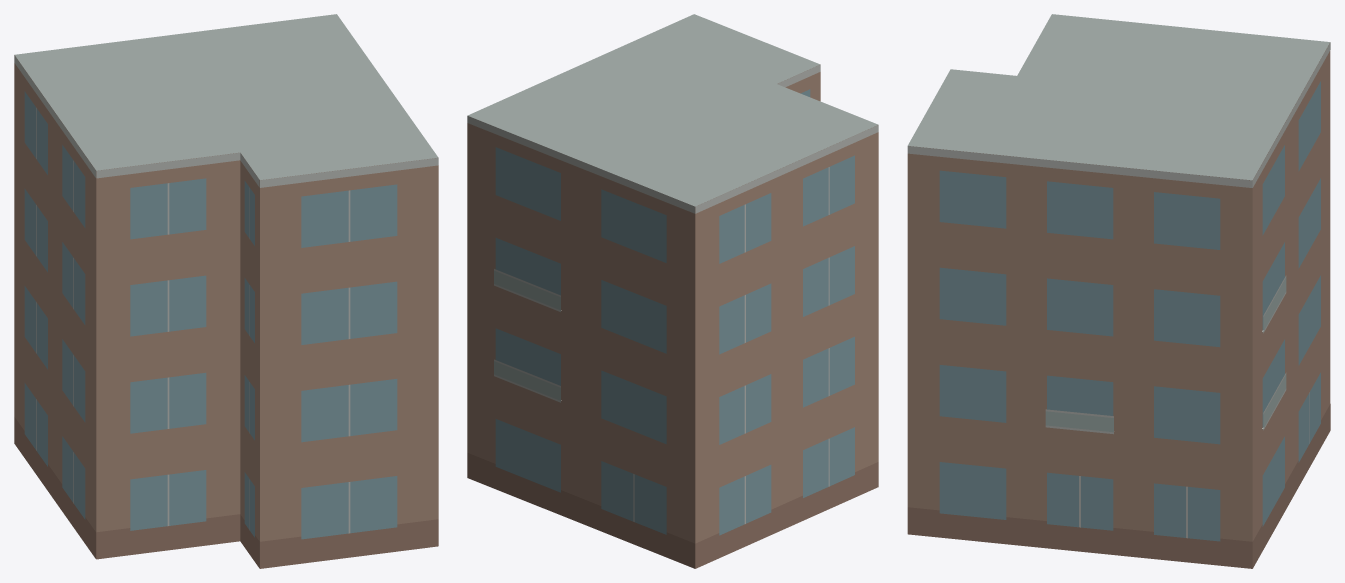
Rendered from residential-b71e2ebc-24d6-4ef4-8ff6-8d59c505e472.glb.
3 renders of one model, left to right at view 1: azimuth 30°, elevation 25°; view 2: azimuth 150°, elevation 25°; view 3: azimuth 270°, elevation 25°, orthographic. The views are drawn at different scales.
Parts seen in each view (by area): view 1: residential-b71e2ebc-24d6-4ef4-8ff6-8d59c505e472.tmp; view 2: residential-b71e2ebc-24d6-4ef4-8ff6-8d59c505e472.tmp; view 3: residential-b71e2ebc-24d6-4ef4-8ff6-8d59c505e472.tmp.
Boxes of the visible parts, <box> form: residential-b71e2ebc-24d6-4ef4-8ff6-8d59c505e472.tmp: <box>14,14,438,568</box>; residential-b71e2ebc-24d6-4ef4-8ff6-8d59c505e472.tmp: <box>467,14,878,568</box>; residential-b71e2ebc-24d6-4ef4-8ff6-8d59c505e472.tmp: <box>907,14,1330,568</box>.
Bounding box in the file's own units: 11.21 × 12.2 × 12.05.
